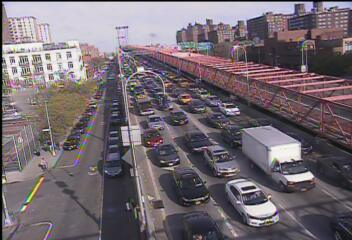neg: (254, 77, 275, 105), (142, 41, 161, 67), (89, 113, 108, 139), (52, 176, 71, 201), (259, 116, 276, 139), (61, 81, 78, 104), (57, 27, 74, 50), (172, 134, 189, 156), (238, 177, 255, 199), (191, 182, 208, 204), (218, 20, 234, 42), (107, 19, 123, 40), (301, 132, 317, 153), (176, 67, 191, 87), (131, 142, 146, 161), (20, 54, 35, 73), (303, 90, 318, 109), (294, 35, 308, 54), (283, 161, 297, 180), (142, 176, 156, 195), (114, 186, 128, 205), (249, 33, 263, 51), (212, 82, 225, 100), (81, 193, 94, 209), (216, 136, 227, 150)
pos: (33, 153, 48, 173)
